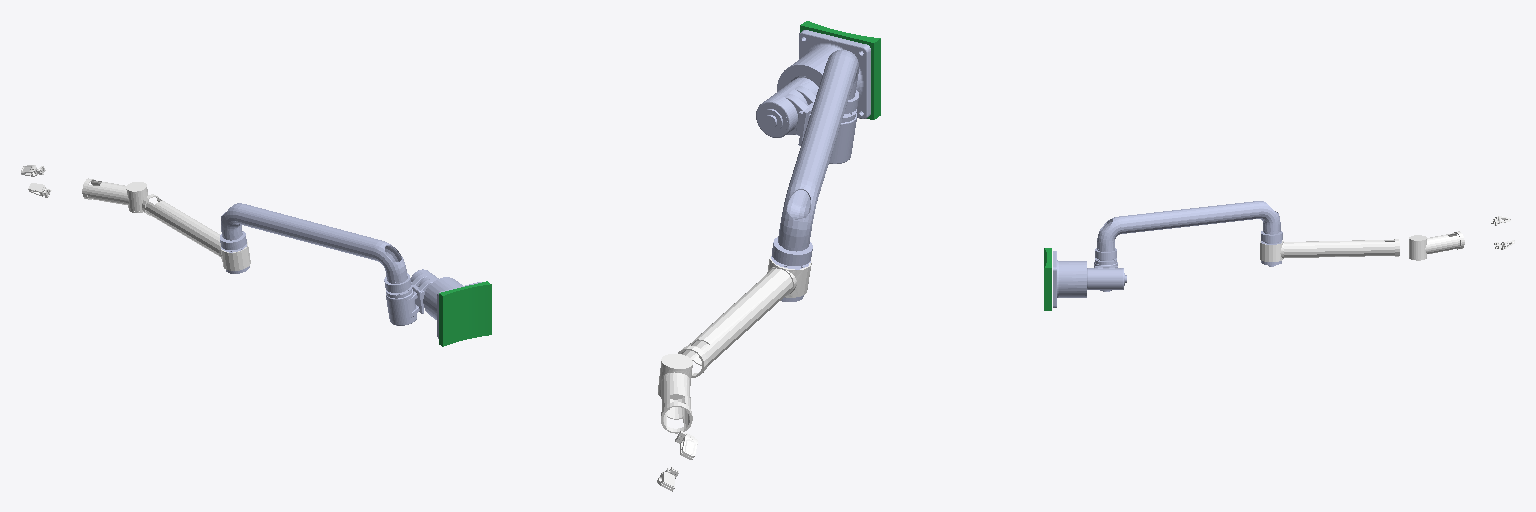
URDF robot description (legacy10__starlink_sldasm9):
<?xml version='1.0' encoding='utf-8'?>
<robot name="legacy10__starlink_sldasm9">
  <link name="base_link">
    <visual>
      <geometry>
        <mesh filename="../satellites/legacy10/satellite.stl" />
      </geometry>
      <material name="satellite_grey">
        <color rgba=".6 .7 .8 1" />
      </material>
    </visual>
    <collision>
      <geometry>
        <mesh filename="../satellites/legacy10/satellite.stl" />
      </geometry>
    </collision>
  </link>
  <link name="legacy10_mount" />
  <joint name="satellite_mount_fixed" type="fixed">
    <parent link="base_link" />
    <child link="legacy10_mount" />
    <origin xyz="0.0 0.6713043683937775 1.8" rpy="-1.5707963267948966 -1.5707963267948966 0.0" />
  </joint>
  <link name="mount_support">
    <visual>
      <geometry>
        <mesh filename="../satellites/legacy10/mount_support.stl" />
      </geometry>
      <material name="mount_green">
        <color rgba=".2 .7 .35 1" />
      </material>
    </visual>
    <collision>
      <geometry>
        <mesh filename="../satellites/legacy10/mount_support.stl" />
      </geometry>
    </collision>
  </link>
  <joint name="support_fixed" type="fixed">
    <parent link="legacy10_mount" />
    <child link="mount_support" />
    <origin xyz="0 0 0" rpy="0 0 0" />
  </joint>
  <joint name="arm_adapter_fixed" type="fixed">
    <parent link="legacy10_mount" />
    <child link="starlink_space_manipulator_base_link" />
    <origin xyz="0.009087204933166504 0.008519247174263 0.15000000141561035" rpy="-1.5707963267948966 0 0" />
  </joint>
  <link name="starlink_space_manipulator_base_link">
    <inertial>
      <origin xyz="-0.00908719924946466 0.0225428225681148 -0.00851924929637313" rpy="0 0 0" />
      <mass value="8.66024015898073" />
      <inertia ixx="0.0960303512697639" ixy="1.65511904636803E-18" ixz="6.22039820639877E-19" iyy="0.103454922260914" iyz="-9.68471289978311E-19" izz="0.0960303512697639" />
    </inertial>
    <visual>
      <origin xyz="0 0 0" rpy="0 0 0" />
      <geometry>
        <mesh filename="../arms/starlink_sldasm9/meshes/starlink_space_manipulator_base_link.STL" />
      </geometry>
      <material name="">
        <color rgba="0.792156862745098 0.819607843137255 0.933333333333333 1" />
      </material>
    </visual>
    <collision>
      <origin xyz="0 0 0" rpy="0 0 0" />
      <geometry>
        <mesh filename="../arms/starlink_sldasm9/meshes/starlink_space_manipulator_base_link.STL" />
      </geometry>
    </collision>
  </link>
  <link name="starlink_space_manipulator_Shoulder_link_1">
    <inertial>
      <origin xyz="-0.000399471745595769 -0.100006574194712 -0.17423940484461" rpy="0 0 0" />
      <mass value="5.16309216784981" />
      <inertia ixx="0.0524543852135592" ixy="0.00348154867667969" ixz="6.96526910910627E-05" iyy="0.0306595326318824" iyz="-0.00056674368052247" izz="0.0439979075615329" />
    </inertial>
    <visual>
      <origin xyz="0 0 0" rpy="0 0 0" />
      <geometry>
        <mesh filename="../arms/starlink_sldasm9/meshes/starlink_space_manipulator_Shoulder_link_1.STL" />
      </geometry>
      <material name="">
        <color rgba="0.792156862745098 0.819607843137255 0.933333333333333 1" />
      </material>
    </visual>
    <collision>
      <origin xyz="0 0 0" rpy="0 0 0" />
      <geometry>
        <mesh filename="../arms/starlink_sldasm9/meshes/starlink_space_manipulator_Shoulder_link_1.STL" />
      </geometry>
    </collision>
  </link>
  <joint name="starlink_space_manipulator_Shoulder_link_1_yaw" type="revolute">
    <origin xyz="-0.0090872 -0.065 -0.0085192" rpy="1.5708 -0.15574 3.1416" />
    <parent link="starlink_space_manipulator_base_link" />
    <child link="starlink_space_manipulator_Shoulder_link_1" />
    <axis xyz="0 0 -1" />
    <limit lower="-3.14" upper="3.14" effort="0" velocity="0" />
  </joint>
  <link name="starlink_space_manipulator_Upper_arm_Link_1">
    <inertial>
      <origin xyz="0.402106341472203 -0.696465272634528 -0.170177523085579" rpy="0 0 0" />
      <mass value="5.05309869040685" />
      <inertia ixx="0.388719013133801" ixy="0.210155896498943" ixz="9.30829370680679E-08" iyy="0.146049057575642" iyz="1.71830458004218E-07" izz="0.500677708275447" />
    </inertial>
    <visual>
      <origin xyz="0 0 0" rpy="0 0 0" />
      <geometry>
        <mesh filename="../arms/starlink_sldasm9/meshes/starlink_space_manipulator_Upper_arm_Link_1.STL" />
      </geometry>
      <material name="">
        <color rgba="0.792156862745098 0.819607843137255 0.933333333333333 1" />
      </material>
    </visual>
    <collision>
      <origin xyz="0 0 0" rpy="0 0 0" />
      <geometry>
        <mesh filename="../arms/starlink_sldasm9/meshes/starlink_space_manipulator_Upper_arm_Link_1.STL" />
      </geometry>
    </collision>
  </link>
  <joint name="starlink_space_manipulator_Upper_arm_Link_1_roll" type="revolute">
    <origin xyz="0 -0.2 -0.18" rpy="1.5708 0.90646 1.5708" />
    <parent link="starlink_space_manipulator_Shoulder_link_1" />
    <child link="starlink_space_manipulator_Upper_arm_Link_1" />
    <axis xyz="0 0 -1" />
    <limit lower="-2" upper="1.5" effort="0" velocity="0" />
  </joint>
  <link name="starlink_space_manipulator_Mid_arm_Link_1">
    <inertial>
      <origin xyz="-0.000406052776441013 0.317722269561105 0.0155331755135703" rpy="0 0 0" />
      <mass value="1.57635531881168" />
      <inertia ixx="0.133610363618846" ixy="5.33750993405138E-05" ixz="-3.60473795202962E-09" iyy="0.00502119434334708" iyz="-2.514275749911E-05" izz="0.134586018527477" />
    </inertial>
    <visual>
      <origin xyz="0 0 0" rpy="0 0 0" />
      <geometry>
        <mesh filename="../arms/starlink_sldasm9/meshes/starlink_space_manipulator_Mid_arm_Link_1.STL" />
      </geometry>
      <material name="">
        <color rgba="1 1 1 1" />
      </material>
    </visual>
    <collision>
      <origin xyz="0 0 0" rpy="0 0 0" />
      <geometry>
        <mesh filename="../arms/starlink_sldasm9/meshes/starlink_space_manipulator_Mid_arm_Link_1.STL" />
      </geometry>
    </collision>
  </link>
  <joint name="starlink_space_manipulator_Mid_arm_Link_1_roll" type="revolute">
    <origin xyz="0.599999999999673 -1.03923048454122 0" rpy="-3.14159265358979 0 0.828250280535091" />
    <parent link="starlink_space_manipulator_Upper_arm_Link_1" />
    <child link="starlink_space_manipulator_Mid_arm_Link_1" />
    <axis xyz="0 0 -1" />
    <limit lower="-3.14" upper="3.14" effort="0" velocity="0" />
  </joint>
  <link name="starlink_space_manipulator_Upper_wrist_Link_1">
    <inertial>
      <origin xyz="-0.000400003664721815 -0.201565878030355 -0.00216705855311664" rpy="0 0 0" />
      <mass value="0.994770641034713" />
      <inertia ixx="0.00165409639029414" ixy="-7.59103925411082E-06" ixz="-3.17403155320863E-06" iyy="0.00201437937768072" iyz="2.63246464091218E-06" izz="0.00159638838344539" />
    </inertial>
    <visual>
      <origin xyz="0 0 0" rpy="0 0 0" />
      <geometry>
        <mesh filename="../arms/starlink_sldasm9/meshes/starlink_space_manipulator_Upper_wrist_Link_1.STL" />
      </geometry>
      <material name="">
        <color rgba="0.792156862745098 0.819607843137255 0.933333333333333 1" />
      </material>
    </visual>
    <collision>
      <origin xyz="0 0 0" rpy="0 0 0" />
      <geometry>
        <mesh filename="../arms/starlink_sldasm9/meshes/starlink_space_manipulator_Upper_wrist_Link_1.STL" />
      </geometry>
    </collision>
  </link>
  <joint name="starlink_space_manipulator_Upper_wrist_Link_1_yaw" type="revolute">
    <origin xyz="-0.00050155183276912 0.686793643713439 0.0155010481432086" rpy="0 -0.0763876794035917 3.14159265358979" />
    <parent link="starlink_space_manipulator_Mid_arm_Link_1" />
    <child link="starlink_space_manipulator_Upper_wrist_Link_1" />
    <axis xyz="0 -1 0" />
    <limit lower="-3.14" upper="3.14" effort="0" velocity="0" />
  </joint>
  <link name="starlink_space_manipulator_Upper_wrist_Link_2">
    <inertial>
      <origin xyz="8.45304168883843E-08 0.0848318719623631 -0.00515657391755576" rpy="0 0 0" />
      <mass value="1.03716823037577" />
      <inertia ixx="0.0100970561498589" ixy="1.32295633551837E-09" ixz="-9.43675929999229E-09" iyy="0.00222325407426665" iyz="-2.08772874866187E-06" izz="0.0105840577017538" />
    </inertial>
    <visual>
      <origin xyz="0 0 0" rpy="0 0 0" />
      <geometry>
        <mesh filename="../arms/starlink_sldasm9/meshes/starlink_space_manipulator_Upper_wrist_Link_2.STL" />
      </geometry>
      <material name="">
        <color rgba="1 1 1 1" />
      </material>
    </visual>
    <collision>
      <origin xyz="0 0 0" rpy="0 0 0" />
      <geometry>
        <mesh filename="../arms/starlink_sldasm9/meshes/starlink_space_manipulator_Upper_wrist_Link_2.STL" />
      </geometry>
    </collision>
  </link>
  <joint name="starlink_space_manipulator_Upper_wrist_Link_2_roll" type="revolute">
    <origin xyz="0 -0.30020635628656 0" rpy="-0.0158640776811277 -0.0317448426184613 -2.67805461574742" />
    <parent link="starlink_space_manipulator_Upper_wrist_Link_1" />
    <child link="starlink_space_manipulator_Upper_wrist_Link_2" />
    <axis xyz="0 0 1" />
    <limit lower="-2.5" upper="1.8" effort="0" velocity="0" />
  </joint>
  <link name="starlink__space_manipulator_2F-Body_Link">
    <inertial>
      <origin xyz="0.000132893636818288 -0.122912145301831 0.000141178527731878" rpy="0 0 0" />
      <mass value="2.06098061435798" />
      <inertia ixx="0.00357820981002093" ixy="-9.7173781739015E-06" ixz="-0.000377950837415894" iyy="0.00540179107539635" iyz="3.57093943209629E-06" izz="0.0050632324449311" />
    </inertial>
    <visual>
      <origin xyz="0 0 0" rpy="0 0 0" />
      <geometry>
        <mesh filename="../arms/starlink_sldasm9/meshes/starlink__space_manipulator_2F-Body_Link.STL" />
      </geometry>
      <material name="">
        <color rgba="0.792156862745098 0.819607843137255 0.933333333333333 1" />
      </material>
    </visual>
    <collision>
      <origin xyz="0 0 0" rpy="0 0 0" />
      <geometry>
        <mesh filename="../arms/starlink_sldasm9/meshes/starlink__space_manipulator_2F-Body_Link.STL" />
      </geometry>
    </collision>
  </link>
  <joint name="starlink__space_manipulator_2F-Body_Link_yaw" type="revolute">
    <origin xyz="0 0.34845 -0.0053813" rpy="-3.1416 0.93592 0" />
    <parent link="starlink_space_manipulator_Upper_wrist_Link_2" />
    <child link="starlink__space_manipulator_2F-Body_Link" />
    <axis xyz="0 -1 0" />
    <limit lower="-3.14" upper="3.14" effort="0" velocity="0" />
  </joint>
  <link name="starlink_space_manipulator_Finger1_2_Link">
    <inertial>
      <origin xyz="-0.128379781160824 0.00213384929263816 0.20765530277947" rpy="0 0 0" />
      <mass value="0.164012557851557" />
      <inertia ixx="0.000137377814382494" ixy="5.75324125943043E-07" ixz="1.56204374379134E-05" iyy="0.000128174497717794" iyz="2.8915711708103E-06" izz="5.56877077151319E-05" />
    </inertial>
    <visual>
      <origin xyz="0 0 0" rpy="0 0 0" />
      <geometry>
        <mesh filename="../arms/starlink_sldasm9/meshes/starlink_space_manipulator_Finger1_2_Link.STL" />
      </geometry>
      <material name="">
        <color rgba="1 1 1 1" />
      </material>
    </visual>
    <collision>
      <origin xyz="0 0 0" rpy="0 0 0" />
      <geometry>
        <mesh filename="../arms/starlink_sldasm9/meshes/starlink_space_manipulator_Finger1_2_Link.STL" />
      </geometry>
    </collision>
  </link>
  <joint name="starlink_space_manipulator_Finger1_2_Link_roll" type="prismatic">
    <origin xyz="-0.2017 -0.10916 -0.04801" rpy="-1.5708 0.22747 -3.1416" />
    <parent link="starlink__space_manipulator_2F-Body_Link" />
    <child link="starlink_space_manipulator_Finger1_2_Link" />
    <axis xyz="-1 0 0" />
    <limit lower="0.0" upper="0.04" effort="20" velocity="0" />
  </joint>
  <link name="starlink_space_manipulator_Finger2_1_Link">
    <inertial>
      <origin xyz="-0.128379783275286 0.0021338497374519 0.207655316264438" rpy="0 0 0" />
      <mass value="0.164012525176243" />
      <inertia ixx="0.000137377758573247" ixy="5.75327227385201E-07" ixz="1.56204303396715E-05" iyy="0.00012817444752134" iyz="2.89153901545968E-06" izz="5.5687711839857E-05" />
    </inertial>
    <visual>
      <origin xyz="0 0 0" rpy="0 0 0" />
      <geometry>
        <mesh filename="../arms/starlink_sldasm9/meshes/starlink_space_manipulator_Finger2_1_Link.STL" />
      </geometry>
      <material name="">
        <color rgba="1 1 1 1" />
      </material>
    </visual>
    <collision>
      <origin xyz="0 0 0" rpy="0 0 0" />
      <geometry>
        <mesh filename="../arms/starlink_sldasm9/meshes/starlink_space_manipulator_Finger2_1_Link.STL" />
      </geometry>
    </collision>
  </link>
  <joint name="starlink_space_manipulator_Finger2_1_Link_roll" type="prismatic">
    <origin xyz="0.20865 -0.10916 0.049619" rpy="1.5708 -0.22747 0" />
    <parent link="starlink__space_manipulator_2F-Body_Link" />
    <child link="starlink_space_manipulator_Finger2_1_Link" />
    <axis xyz="-1 0 0" />
    <limit lower="0.0" upper="0.04" effort="20" velocity="0" />
  </joint>
</robot>

--- Facts derived from the render (not from the file) ---
Views: 3 orthographic renders of the robot side by side, from view 1: azimuth 30°, elevation 25°; view 2: azimuth 150°, elevation 25°; view 3: azimuth 270°, elevation 25°.
Robot: legacy10__starlink_sldasm9 — 12 links, 11 joints (6 revolute, 2 prismatic, 3 fixed); root link base_link; default pose: all joints at 0.
Links seen in each view (by area): view 1: starlink_space_manipulator_Upper_arm_Link_1, mount_support, starlink_space_manipulator_Mid_arm_Link_1, starlink_space_manipulator_Shoulder_link_1, starlink_space_manipulator_Upper_wrist_Link_2, starlink_space_manipulator_base_link; view 2: starlink_space_manipulator_Upper_arm_Link_1, starlink_space_manipulator_Mid_arm_Link_1, starlink_space_manipulator_Shoulder_link_1, starlink_space_manipulator_base_link, starlink_space_manipulator_Upper_wrist_Link_2, mount_support; view 3: starlink_space_manipulator_Upper_arm_Link_1, starlink_space_manipulator_Mid_arm_Link_1, starlink_space_manipulator_base_link, starlink_space_manipulator_Shoulder_link_1, starlink_space_manipulator_Upper_wrist_Link_2.
Boxes of the visible links, left/top/right/bottom form: starlink_space_manipulator_Upper_arm_Link_1: left=220, top=203, right=407, bottom=283; mount_support: left=439, top=281, right=491, bottom=346; starlink_space_manipulator_Mid_arm_Link_1: left=142, top=194, right=250, bottom=270; starlink_space_manipulator_Shoulder_link_1: left=384, top=269, right=438, bottom=325; starlink_space_manipulator_Upper_wrist_Link_2: left=82, top=178, right=148, bottom=212; starlink_space_manipulator_base_link: left=423, top=277, right=481, bottom=338; starlink_space_manipulator_Upper_arm_Link_1: left=771, top=50, right=858, bottom=301; starlink_space_manipulator_Mid_arm_Link_1: left=678, top=254, right=811, bottom=377; starlink_space_manipulator_Shoulder_link_1: left=756, top=77, right=858, bottom=163; starlink_space_manipulator_base_link: left=777, top=30, right=870, bottom=118; starlink_space_manipulator_Upper_wrist_Link_2: left=658, top=354, right=692, bottom=433; mount_support: left=800, top=21, right=880, bottom=119; starlink_space_manipulator_Upper_arm_Link_1: left=1097, top=201, right=1282, bottom=266; starlink_space_manipulator_Mid_arm_Link_1: left=1260, top=239, right=1399, bottom=261; starlink_space_manipulator_base_link: left=1053, top=251, right=1086, bottom=307; starlink_space_manipulator_Shoulder_link_1: left=1087, top=248, right=1126, bottom=291; starlink_space_manipulator_Upper_wrist_Link_2: left=1409, top=231, right=1464, bottom=260.
Bounding box of the posed robot: 1.31 × 3.17 × 0.5961 m (x, y, z).
8 mesh visuals loaded from 11 distinct referenced files (8 binary STL); not drawn: 3 (reference not matched to a file when rendering).
